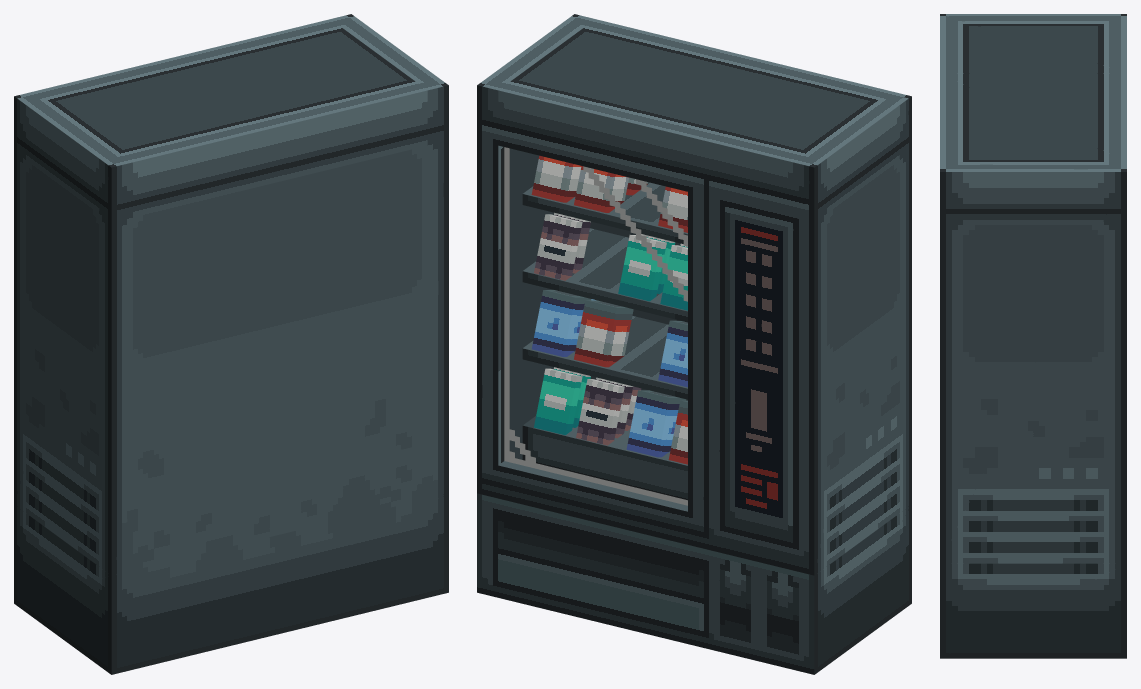
Rendered from vending_machine.gltf.
The picture shows the model from 3 angles, left to right: view 1: azimuth 30°, elevation 25°; view 2: azimuth 150°, elevation 25°; view 3: azimuth 270°, elevation 25°; orthographic projection. The views are drawn at different scales.
Visible parts, largest first — view 1: cube (×6); view 2: cube (×24); view 3: cube (×4).
Boxes of the visible parts, x1,y1,x2,y2 form: cube (×6): (14,14,448,674); cube (×24): (477,14,911,674); cube (×4): (940,14,1126,658).
Size of the model in its own units: 2 by 3 by 1.
1 material, 1 textured.
